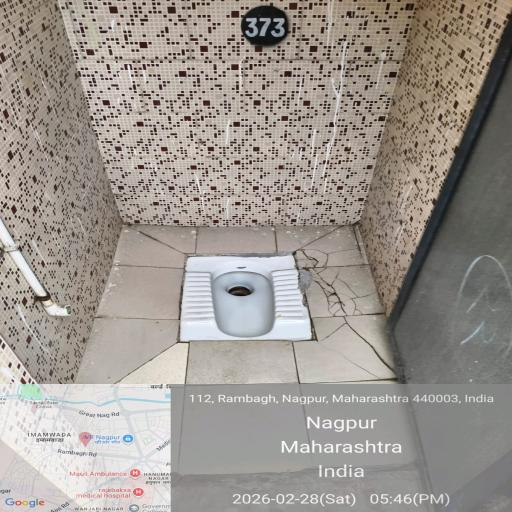clean_floor: (84, 11, 380, 211), (384, 11, 512, 229), (383, 242, 512, 386), (4, 57, 68, 285)
damage: (292, 236, 367, 322)
partial_dirty_floor: (127, 336, 348, 390), (85, 232, 165, 328)
partial_dirty_indian: (177, 252, 313, 342)
